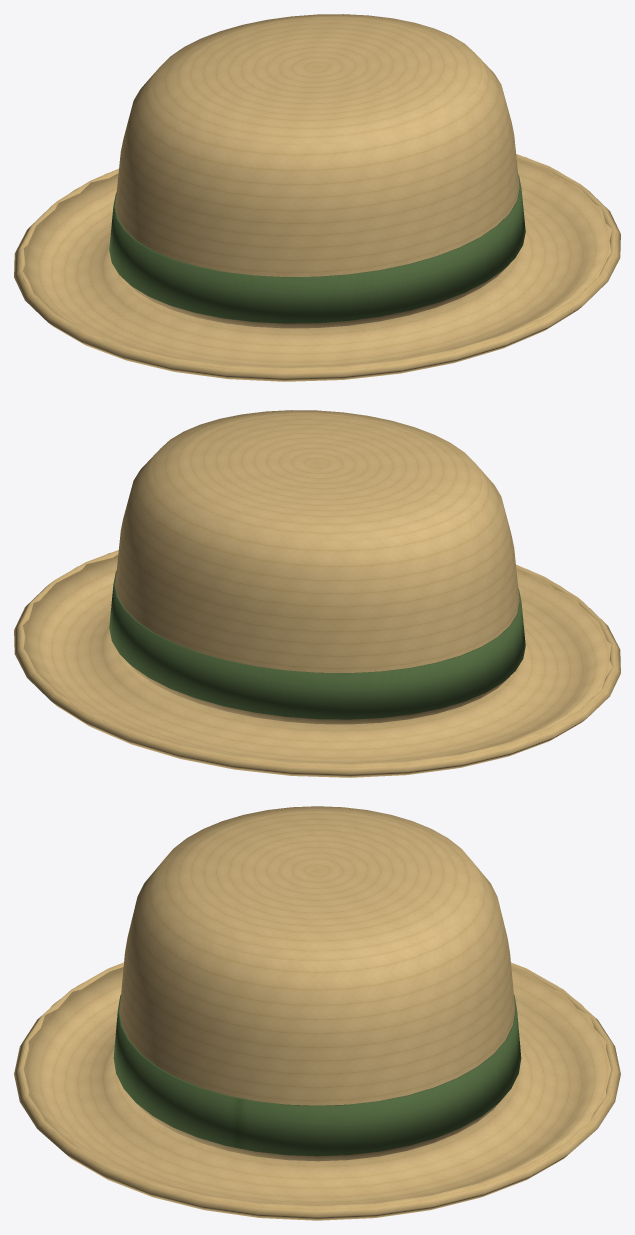
The model's file is KD_StrawHat_Optimized.fbx.
The picture shows the model from 3 angles, top to bottom: view 1: azimuth 30°, elevation 25°; view 2: azimuth 150°, elevation 25°; view 3: azimuth 270°, elevation 25°; orthographic projection. The views are drawn at different scales.
Parts seen in each view (by area): view 1: KD_StrawHat_Optimized; view 2: KD_StrawHat_Optimized; view 3: KD_StrawHat_Optimized.
Boxes of the visible parts, bbox=[...] form: KD_StrawHat_Optimized: bbox=[14, 14, 620, 381]; KD_StrawHat_Optimized: bbox=[14, 410, 620, 777]; KD_StrawHat_Optimized: bbox=[14, 806, 620, 1220].
Size of the model in its own units: 0.2312 by 0.0837 by 0.2081.
Materials: 1 (1 with a texture image).
